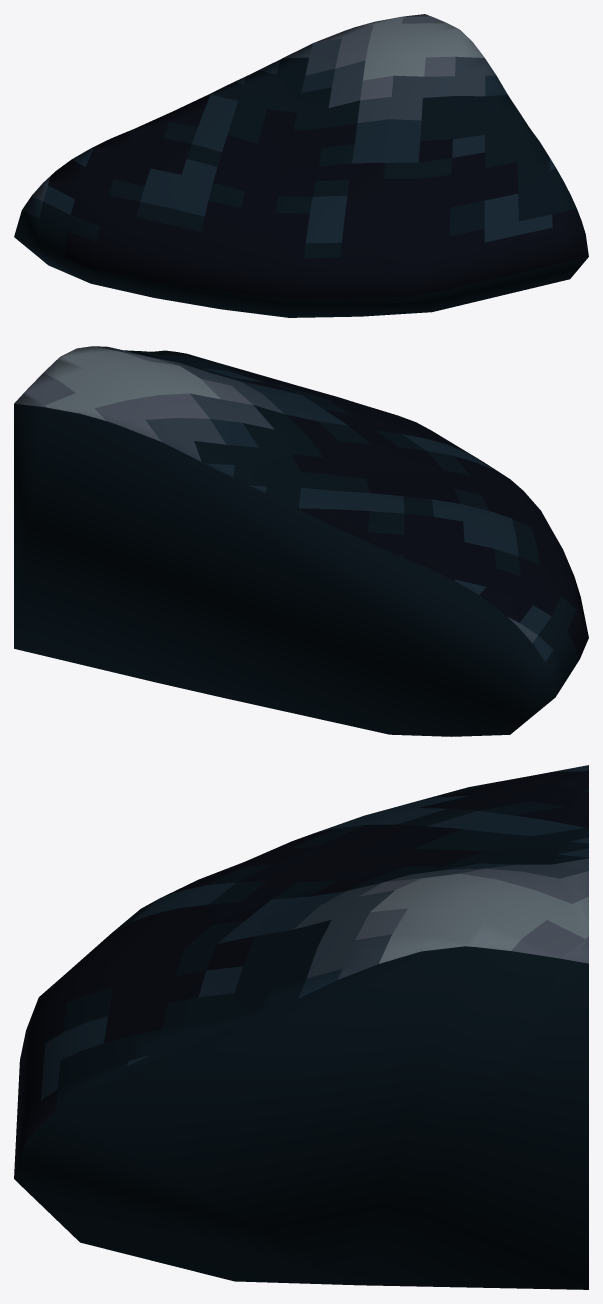
File: newshn-193.glb
3 views of the same model, one above another, from view 1: azimuth 30°, elevation 25°; view 2: azimuth 150°, elevation 25°; view 3: azimuth 270°, elevation 25° (orthographic). The views are drawn at different scales.
Visible parts, largest first — view 1: newshn-193; view 2: newshn-193; view 3: newshn-193.
Boxes of the visible parts, x1,y1,x2,y2 form: newshn-193: (14,14,588,317); newshn-193: (14,346,588,736); newshn-193: (14,765,588,1289).
Bounding box in the file's own units: 1.01 × 0.4664 × 0.7004.
